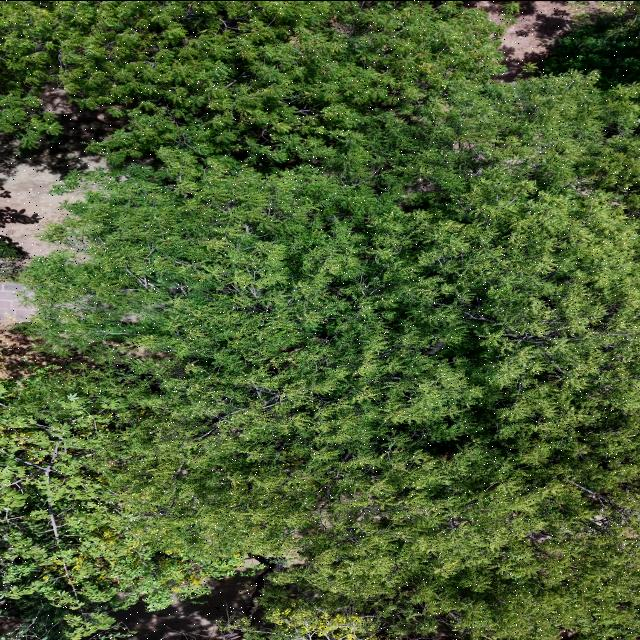DRY_AREA: (0, 87, 125, 256), (0, 88, 125, 257), (0, 89, 125, 257), (0, 88, 124, 257), (0, 88, 124, 256), (0, 89, 108, 257), (0, 91, 108, 256), (0, 94, 102, 256), (114, 566, 272, 639), (0, 87, 126, 178), (114, 571, 264, 639), (115, 571, 265, 639), (499, 1, 624, 82), (115, 574, 261, 639), (115, 574, 258, 639), (0, 281, 86, 379), (499, 1, 603, 82), (0, 163, 81, 257), (0, 165, 81, 256), (0, 165, 79, 256), (499, 1, 573, 81), (0, 325, 96, 379), (115, 595, 218, 639), (0, 283, 33, 323)
VEGETATION_TREE: (0, 1, 639, 639), (0, 1, 501, 162), (0, 371, 241, 639), (539, 12, 639, 87)
